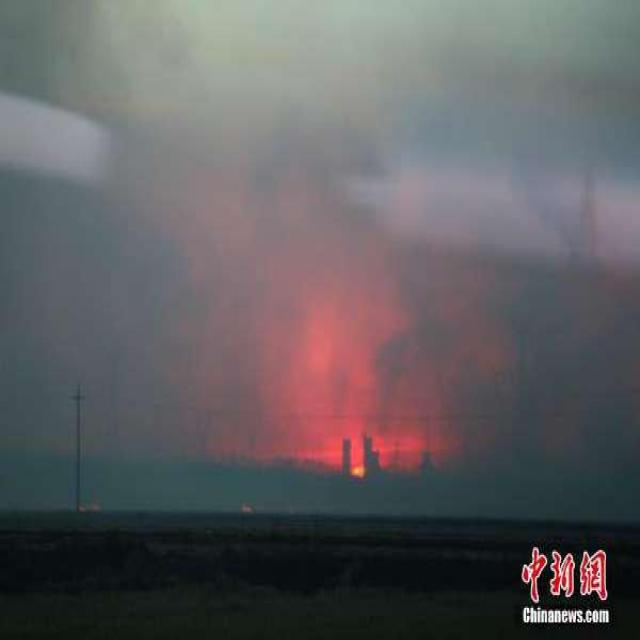fire: (322, 414, 391, 482)
smoke: (245, 27, 396, 410)
